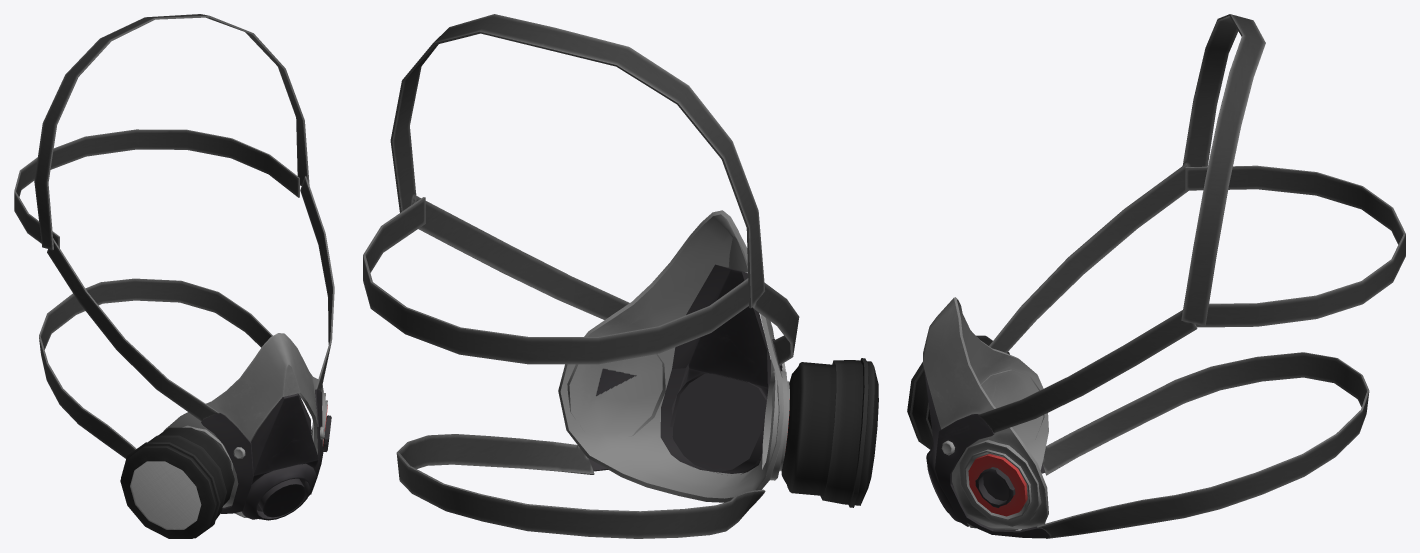
Rendered from mascarilla.fbx.
3 renders of one model, left to right at view 1: azimuth 30°, elevation 25°; view 2: azimuth 150°, elevation 25°; view 3: azimuth 270°, elevation 25°, orthographic. The views are drawn at different scales.
Visible parts, largest first — view 1: Box001, Plane005; view 2: Box001, Plane005; view 3: Plane005, Box001.
Boxes of the visible parts, box(x1,y1,x2,y2) form: Box001: box(120, 333, 331, 538); Plane005: box(14, 14, 334, 458); Box001: box(558, 210, 878, 507); Plane005: box(363, 14, 799, 538); Plane005: box(979, 14, 1405, 538); Box001: box(907, 297, 1050, 538).
Size of the model in its own units: 20.01 by 29.97 by 27.96.
Materials: 1 (1 with a texture image).
